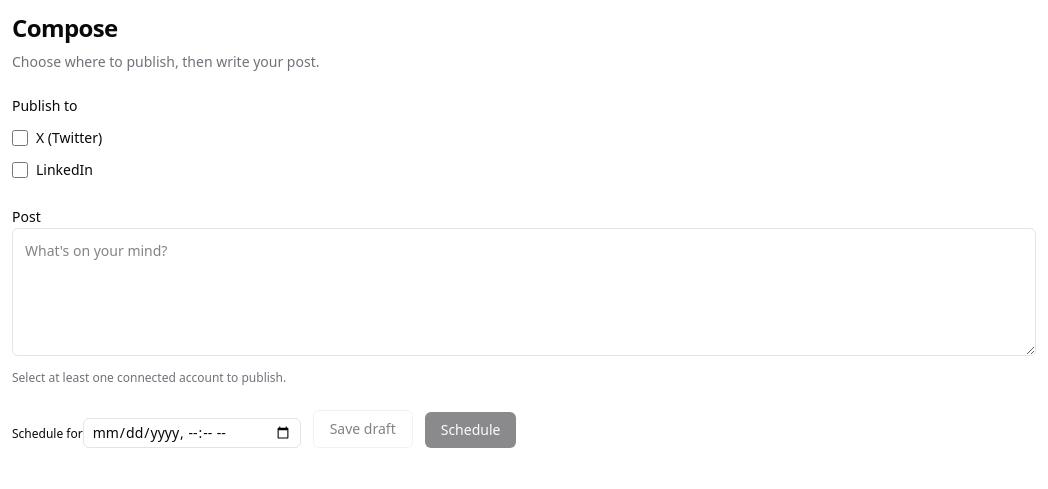
Scenario: Composer › shows the strictest remaining count across selected platforms
Step 1. Click the checkbox labelled "X (Twitter)" → (20, 138), box [12,130,28,146]
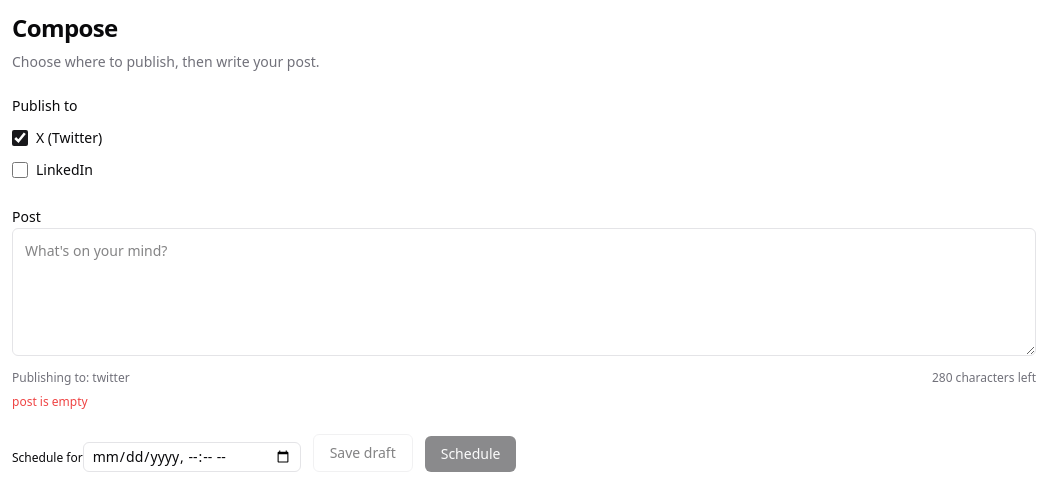
Step 2. Type "hello" into the text box labelled "Post" → (524, 292), box [12,228,1036,356]
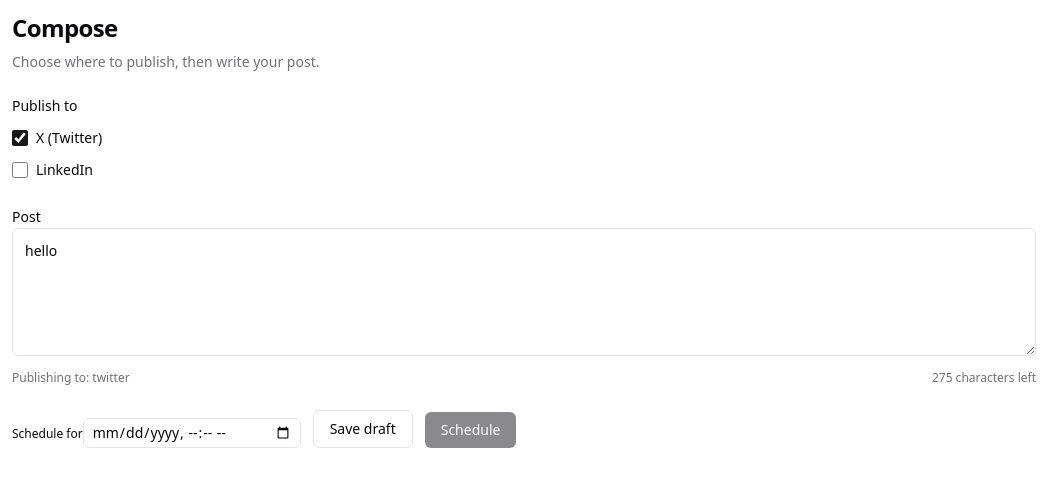
Expected: the text "275 characters left" is shown, [932,370,1036,386]
